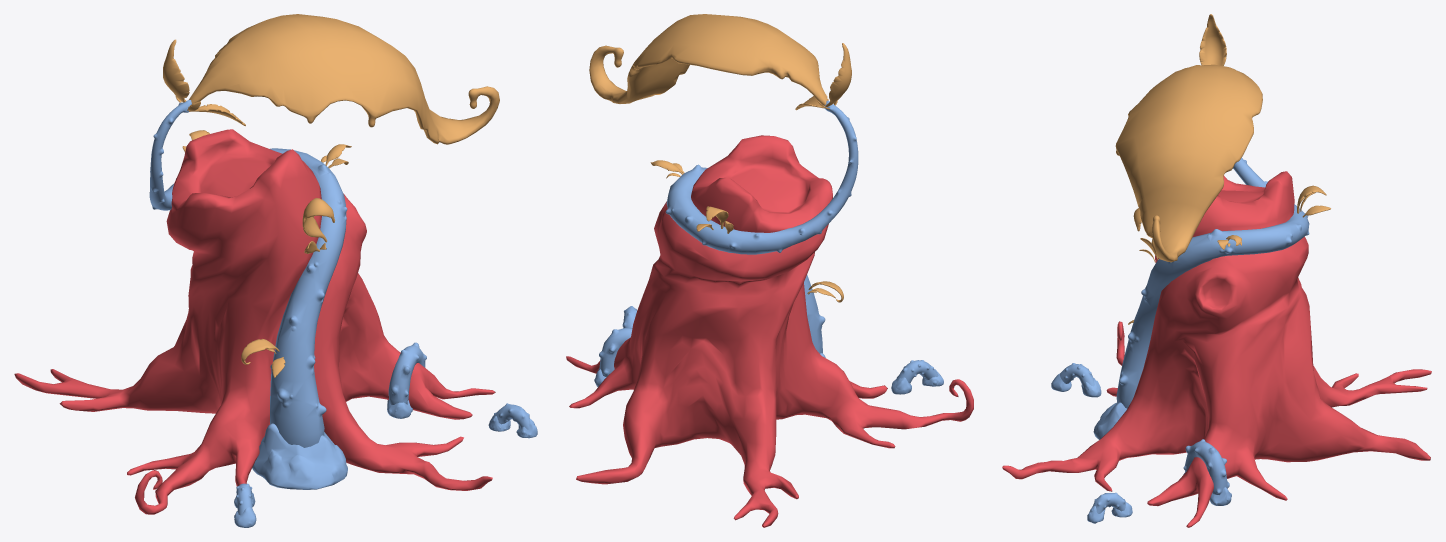
The model's file is TreeVariation1.fbx.
3 renders of one model, left to right at view 1: azimuth 30°, elevation 25°; view 2: azimuth 150°, elevation 25°; view 3: azimuth 270°, elevation 25°, orthographic. The views are drawn at different scales.
Visible parts, largest first — view 1: treetrunk_low, BigLeaf_low, beanstalk_large_low, beanstalk_large_ground_low, beanstalk2_low, MediumLeaf_low, StalkLeaf8_big_low; view 2: treetrunk_low, BigLeaf_low, beanstalk_large_low, beanstalk2_low, MediumLeaf_low, beanstalk1_low; view 3: treetrunk_low, BigLeaf_low, beanstalk_large_low, beanstalk2_low, MediumLeaf_low, beanstalk_large_ground_low, beanstalk1_low.
Boxes of the visible parts, box(x1,y1,x2,y2) form: treetrunk_low: box(14, 129, 495, 514); BigLeaf_low: box(189, 14, 499, 144); beanstalk_large_low: box(149, 100, 347, 447); beanstalk_large_ground_low: box(252, 423, 347, 489); beanstalk2_low: box(388, 342, 426, 404); MediumLeaf_low: box(163, 39, 189, 102); StalkLeaf8_big_low: box(302, 198, 334, 242); treetrunk_low: box(566, 135, 973, 527); BigLeaf_low: box(589, 14, 827, 105); beanstalk_large_low: box(665, 100, 858, 353); beanstalk2_low: box(598, 328, 632, 376); MediumLeaf_low: box(825, 43, 851, 106); beanstalk1_low: box(896, 360, 938, 383); treetrunk_low: box(1002, 171, 1431, 527); BigLeaf_low: box(1115, 64, 1262, 262); beanstalk_large_low: box(1116, 158, 1309, 408); beanstalk2_low: box(1183, 439, 1229, 494); MediumLeaf_low: box(1199, 14, 1226, 65); beanstalk_large_ground_low: box(1093, 402, 1126, 439); beanstalk1_low: box(1060, 363, 1094, 387).
Size of the model in its own units: 12.42 by 12.63 by 12.89.
